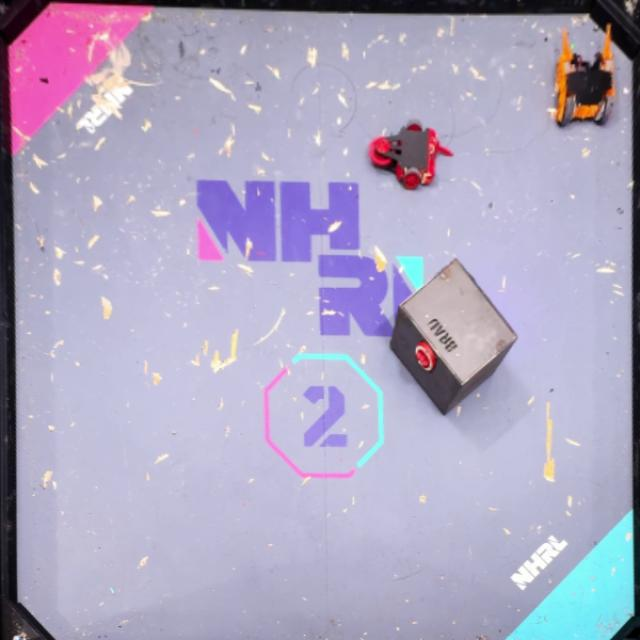housebot: (393, 257, 519, 416)
robot: (370, 119, 453, 191), (554, 23, 612, 124)
